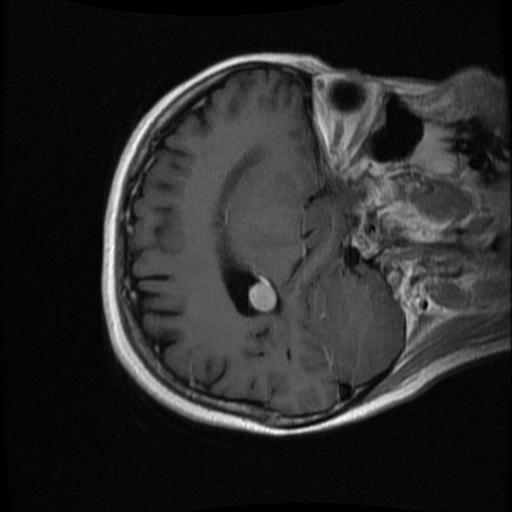meningioma: (247, 279, 277, 312)
